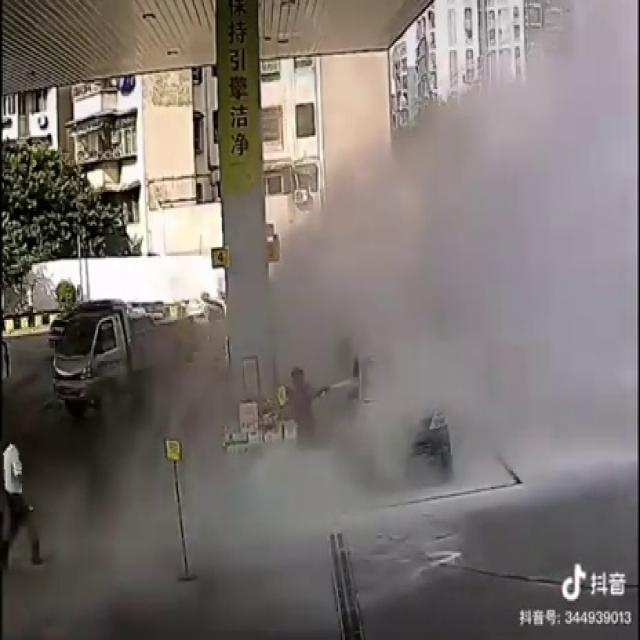Smoke: (255, 16, 636, 508), (38, 304, 271, 628)
